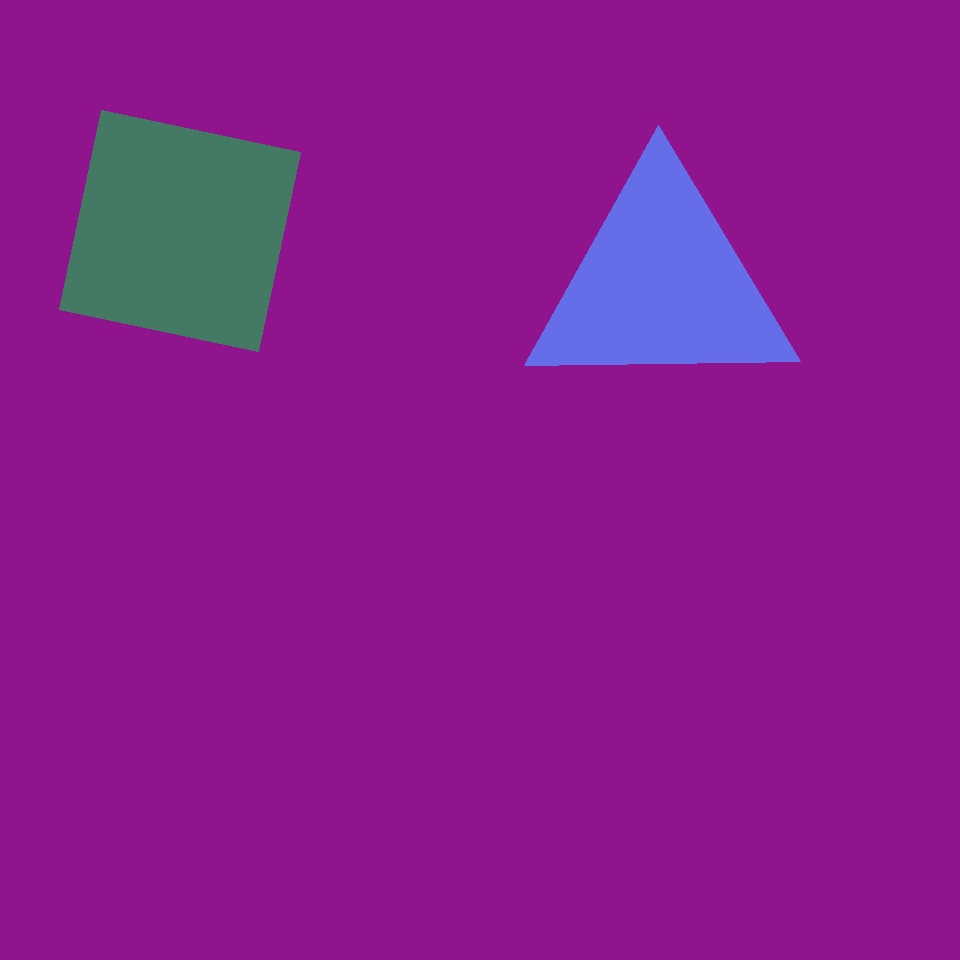circle: (523, 164, 799, 404)
square: (60, 110, 300, 352)
